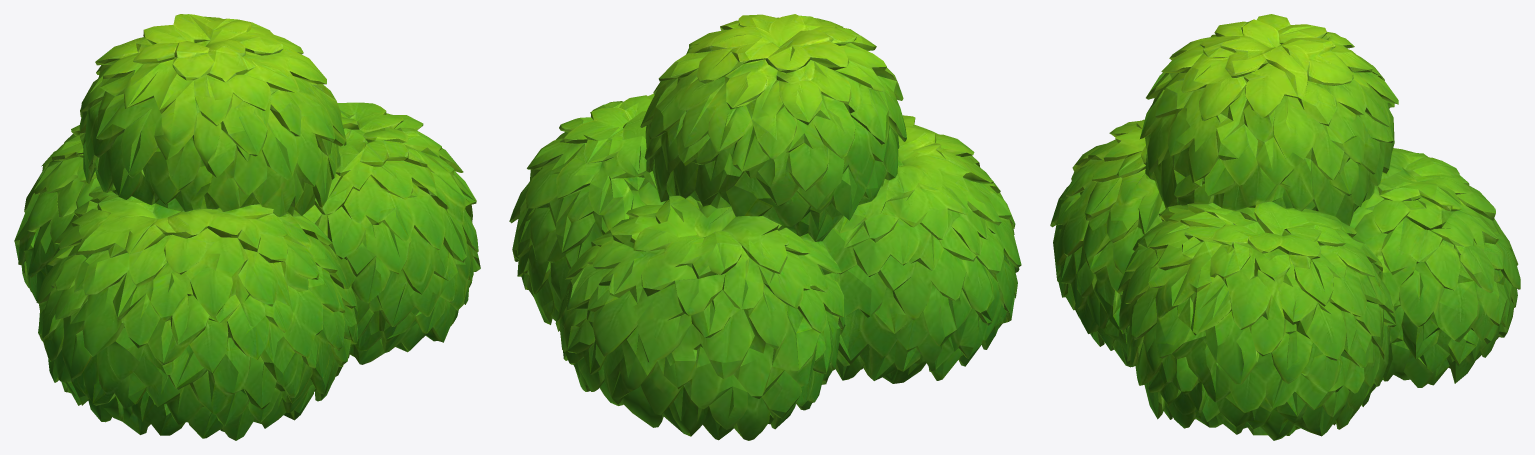
File: neon-leaves.glb
3 renders of one model, left to right at view 1: azimuth 30°, elevation 25°; view 2: azimuth 150°, elevation 25°; view 3: azimuth 270°, elevation 25°, orthographic. The views are drawn at different scales.
Visible parts, largest first — view 1: output_unwrapped; view 2: output_unwrapped; view 3: output_unwrapped.
Boxes of the visible parts, x1,y1,x2,y2 form: output_unwrapped: (14,14,480,440); output_unwrapped: (509,14,1021,440); output_unwrapped: (1050,14,1520,440).
Size of the model in its own units: 1.9 by 1.52 by 1.85.
1 material, 1 textured.
